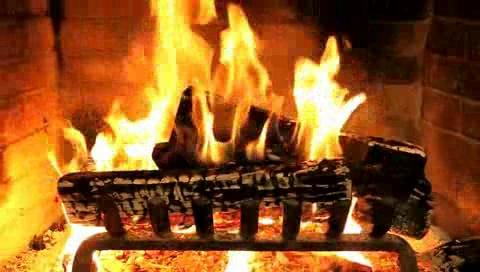fire: (9, 0, 479, 167)
